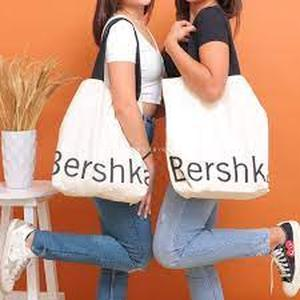bershka: (45, 143, 154, 190), (168, 150, 271, 193)
